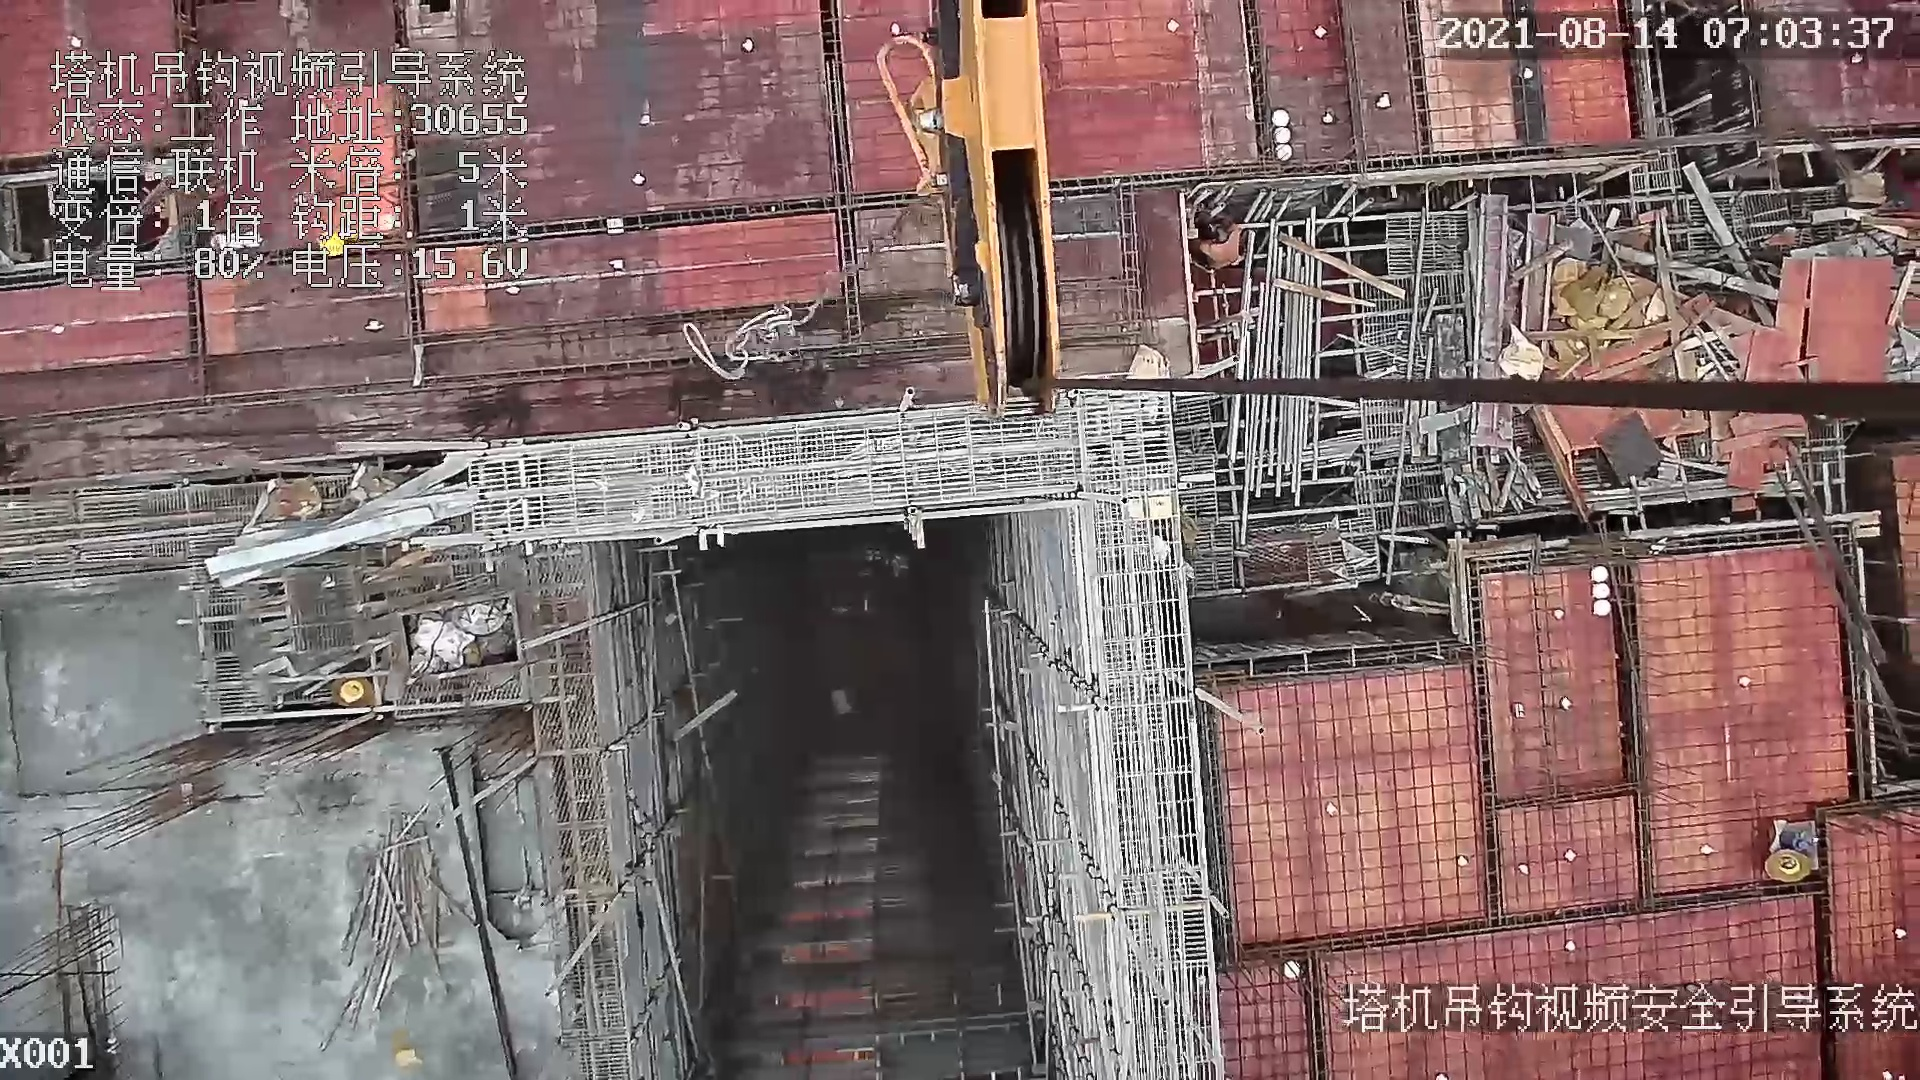hook: (870, 1, 1073, 422)
